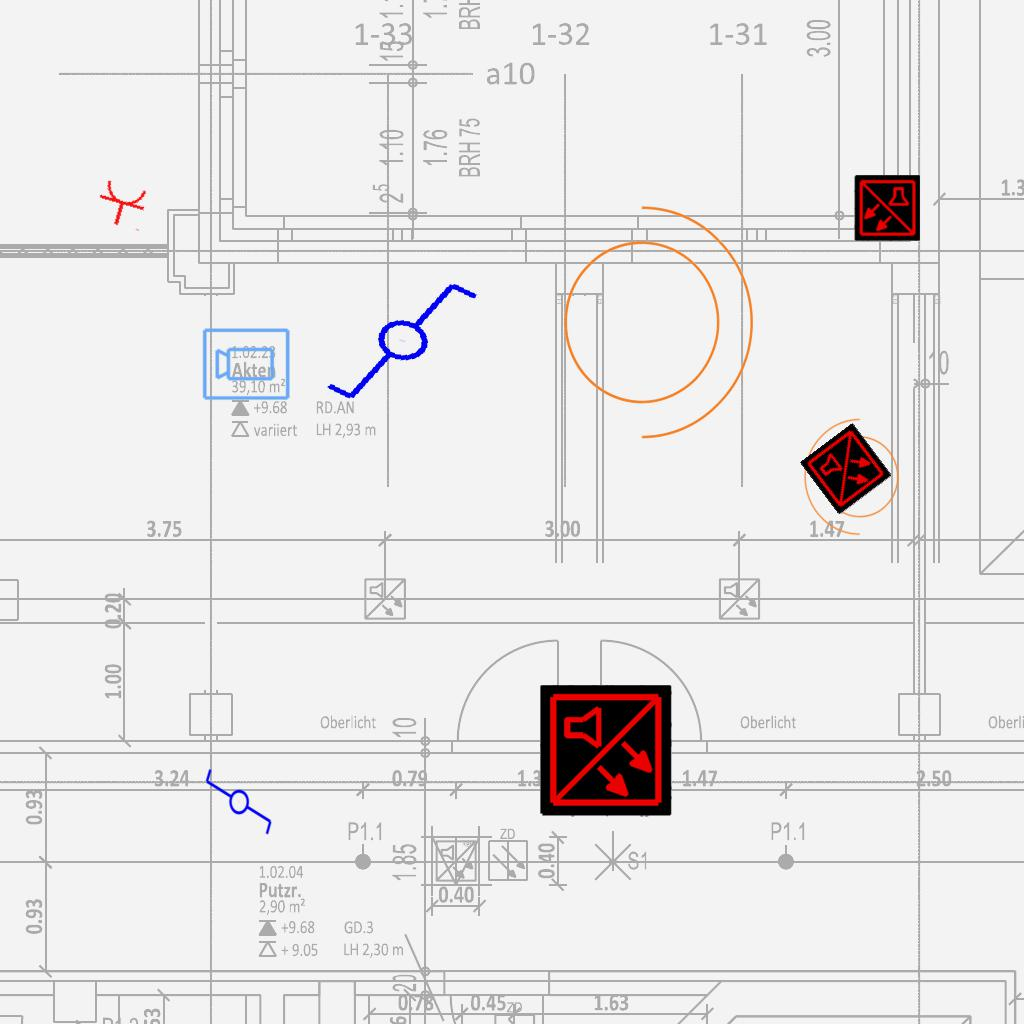KFO_Kamera_mit_Festobjektiv: (201, 325, 292, 402)
OKW_Multisensormelder_(Kombination_optischer_Rauch-Kahlenmonoxid_Waerme-Melder): (540, 685, 672, 817), (799, 422, 893, 516), (854, 175, 920, 241)
Scheinwerfer_fuer_Alarmbeleuchtung: (539, 184, 764, 448), (799, 414, 911, 546)
Schukosteckdose_einfach: (92, 177, 153, 233)
Wechselschalter: (320, 259, 501, 429), (202, 767, 274, 845)
